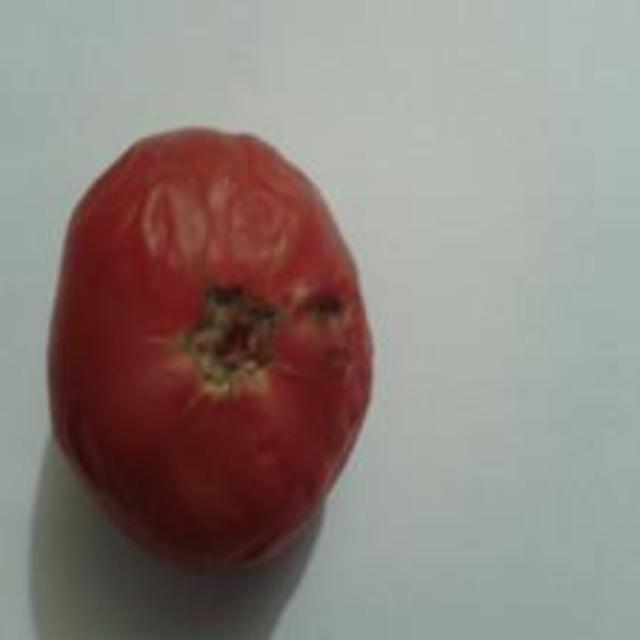defect: (44, 122, 376, 571)
